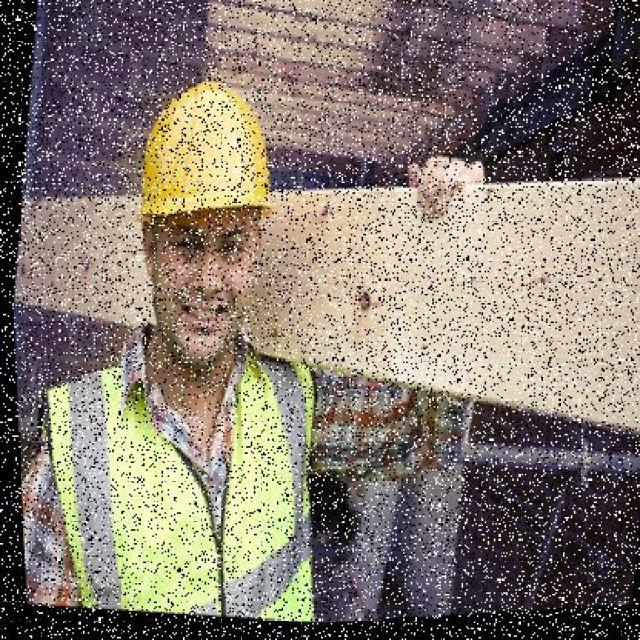helmet: (119, 71, 285, 247)
vest: (15, 326, 363, 638)
